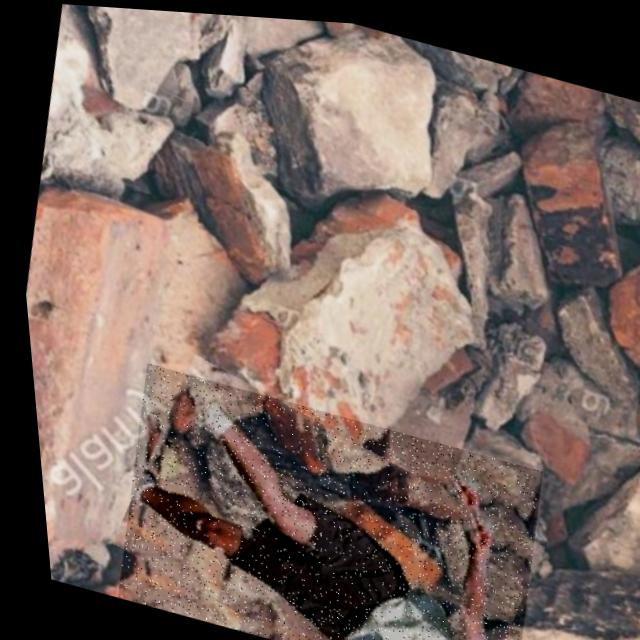Person in Rubble: (88, 358, 547, 640)
